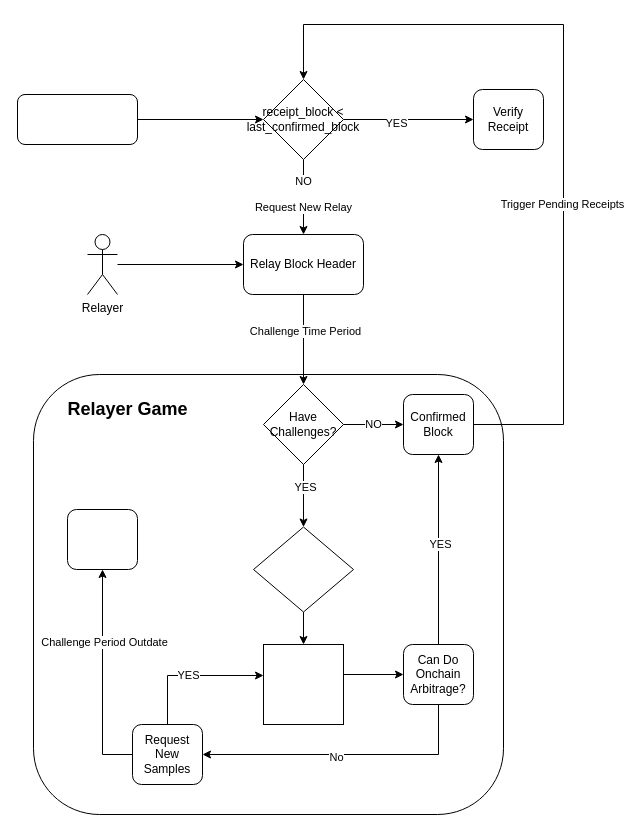
This 641x832 diagram has some shape labels left out. The shapes that lost their labels are listed below. From the top down, each one's box as (x1, y1, x2, y2) in pixels, then its label:
(16, 94, 138, 144): Ethereum Redeem Receipt(Event)
(66, 508, 138, 570): Slash&End
(252, 526, 354, 612): Challenge With Sampling Proposal
(262, 644, 344, 724): Response With Sampling Proposal
